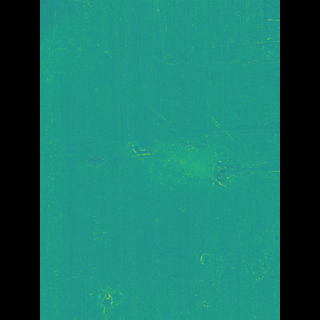Loch: (131, 127, 230, 192), (112, 280, 134, 309)
